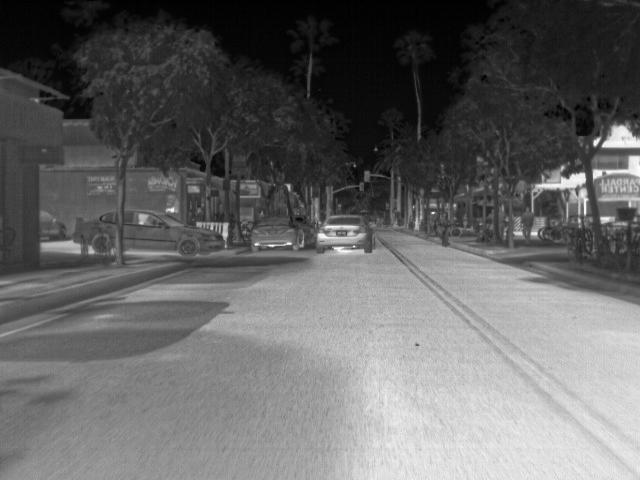car: (123, 207, 227, 258), (250, 214, 318, 252), (315, 214, 378, 254), (71, 208, 116, 254), (39, 210, 68, 242)
person: (520, 206, 534, 244), (427, 209, 438, 233), (499, 205, 506, 239), (191, 206, 205, 220), (439, 212, 448, 230), (487, 206, 497, 218), (461, 211, 469, 226)
